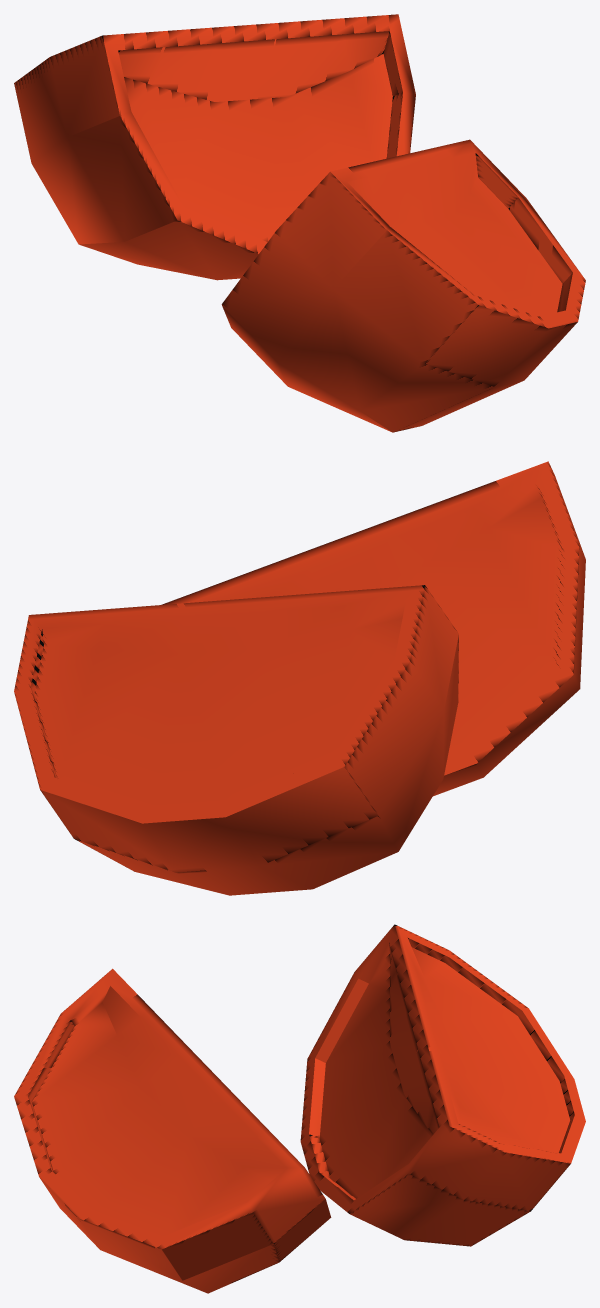
Rendered from gabus pucung.002.fbx.
3 renders of one model, top to bottom at view 1: azimuth 30°, elevation 25°; view 2: azimuth 150°, elevation 25°; view 3: azimuth 270°, elevation 25°, orthographic. The views are drawn at different scales.
Visible parts, largest first — view 1: gabus pucung.002_Baked; view 2: gabus pucung.002_Baked; view 3: gabus pucung.002_Baked.
Part boxes in pixels (x1,y1,x2,y2): gabus pucung.002_Baked: [14, 14, 585, 432]; gabus pucung.002_Baked: [14, 461, 585, 895]; gabus pucung.002_Baked: [14, 924, 585, 1293].
Size of the model in its own units: 12.76 by 10.9 by 20.69.
1 material, 1 textured.
